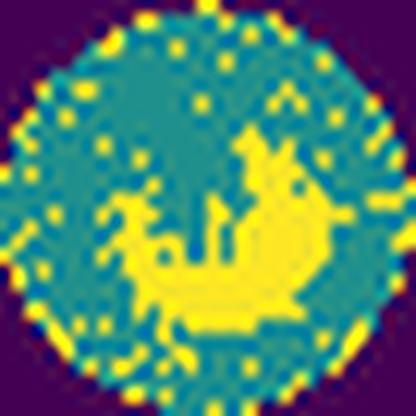Donut: (90, 74, 354, 352)
